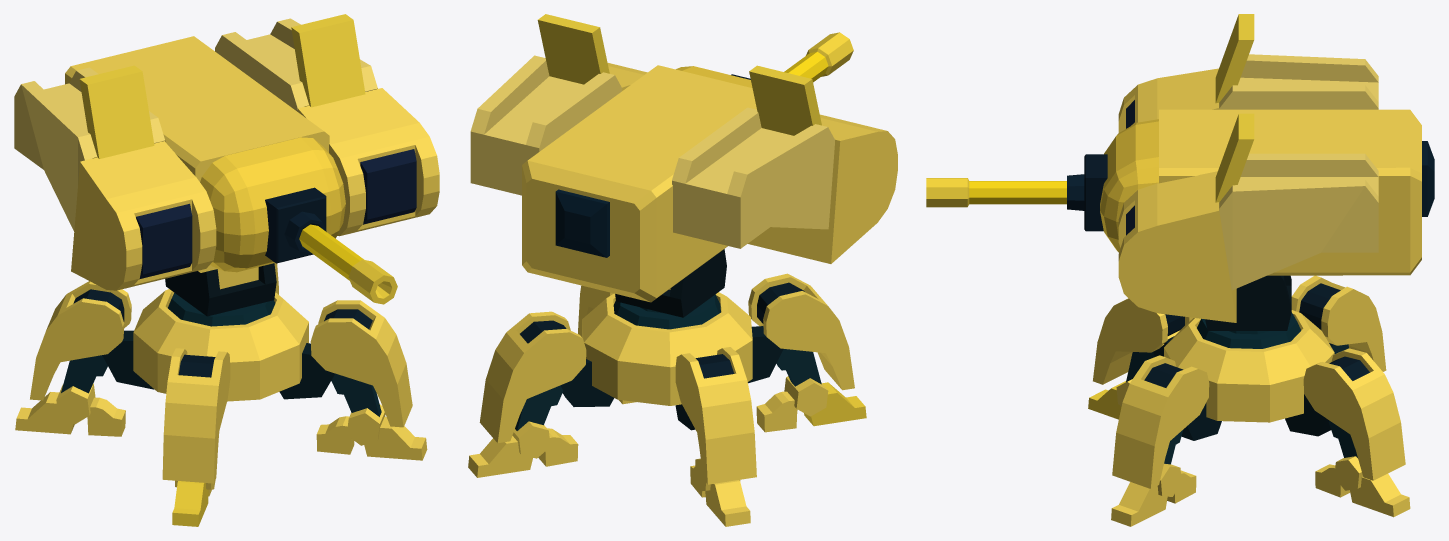
File: Enemey (5).fbx
3 renders of one model, left to right at view 1: azimuth 30°, elevation 25°; view 2: azimuth 150°, elevation 25°; view 3: azimuth 270°, elevation 25°, orthographic. The views are drawn at different scales.
Visible parts, largest first — view 1: Mom, Dari, Po; view 2: Mom, Dari, Po; view 3: Mom, Dari, Po.
Boxes of the visible parts, <box> form: Mom: <box>14,14,439,316</box>; Dari: <box>15,263,427,526</box>; Po: <box>265,187,397,304</box>; Mom: <box>470,14,897,317</box>; Dari: <box>468,273,866,526</box>; Po: <box>731,32,853,82</box>; Mom: <box>1100,14,1434,330</box>; Dari: <box>1088,275,1410,526</box>; Po: <box>926,154,1107,231</box>.
Size of the model in its own units: 265 by 318 by 386.
